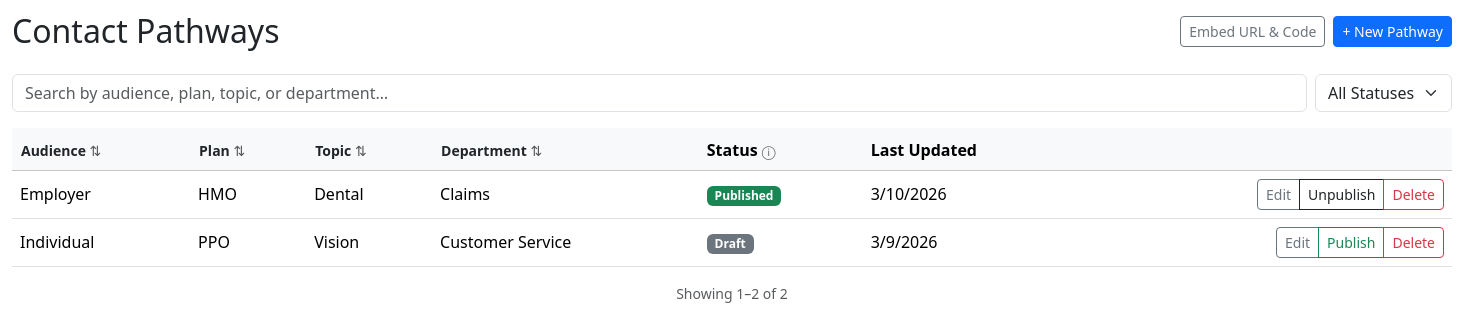
Scenario: PathwaysListPage › Search › filters rows by audience name
Check: the text "Employer" is shown, box top-left (12, 170), bottom-right (190, 218)
In the search field named "search pathways": (660, 93) top-left (12, 74), bottom-right (1307, 112), type "Employer"
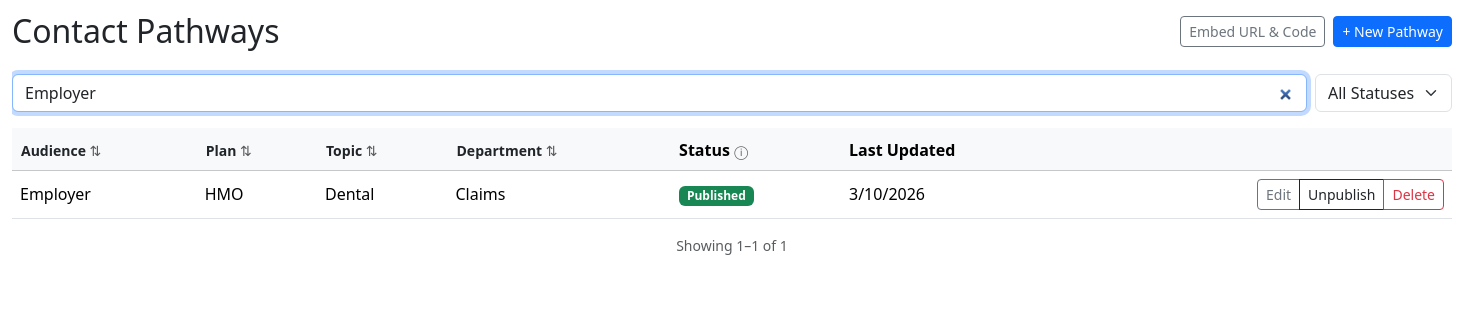
Check: the text "Employer" is shown, box top-left (12, 170), bottom-right (197, 218)
Check: the text "Individual" is gone
